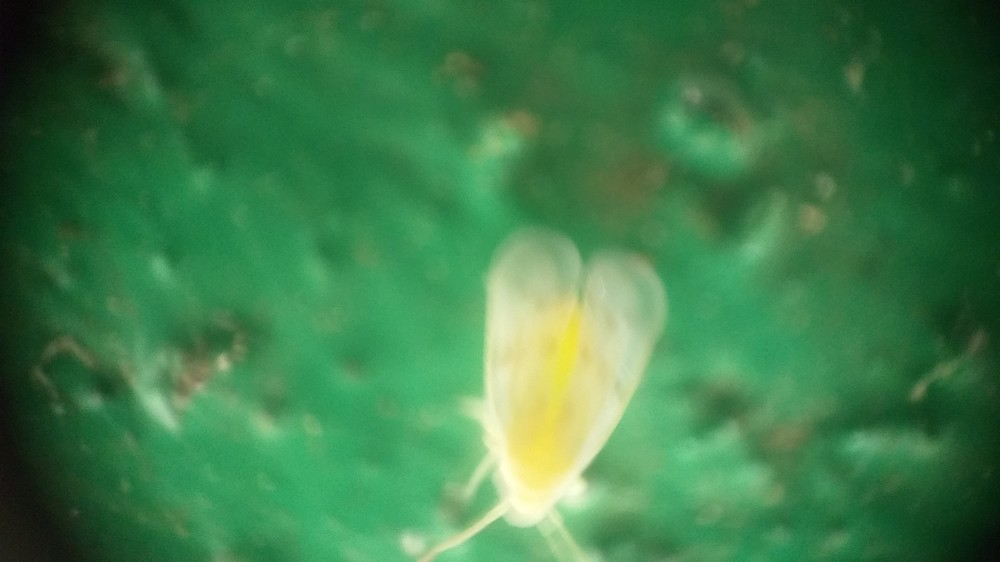Mosca Blanca: (392, 214, 702, 560)
